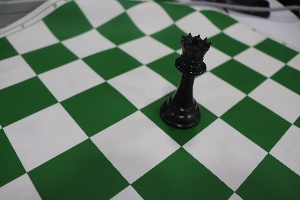black_queen: (165, 17, 206, 135)
